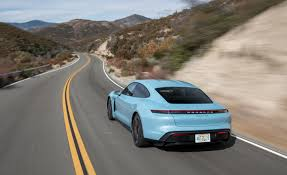car: (102, 76, 241, 151)
